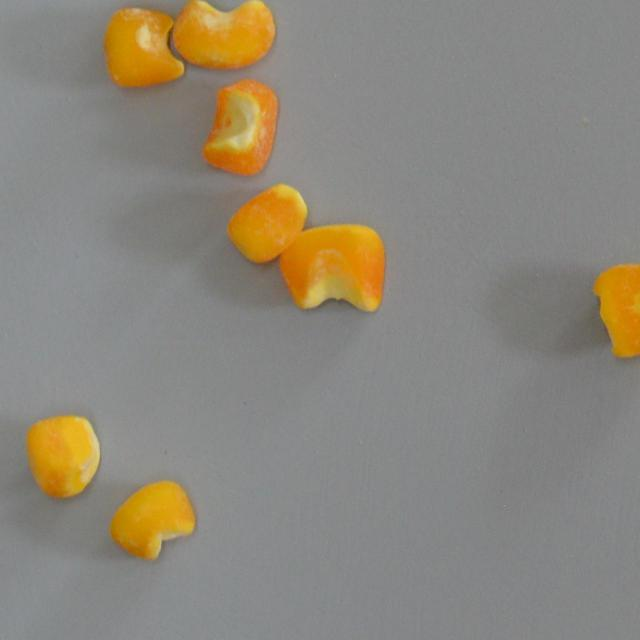no_canjicado: (280, 222, 385, 314), (110, 477, 196, 562), (226, 183, 306, 264), (28, 414, 102, 498), (589, 261, 640, 360)
pelicula: (200, 79, 278, 177), (172, 0, 276, 69), (101, 6, 184, 86)
